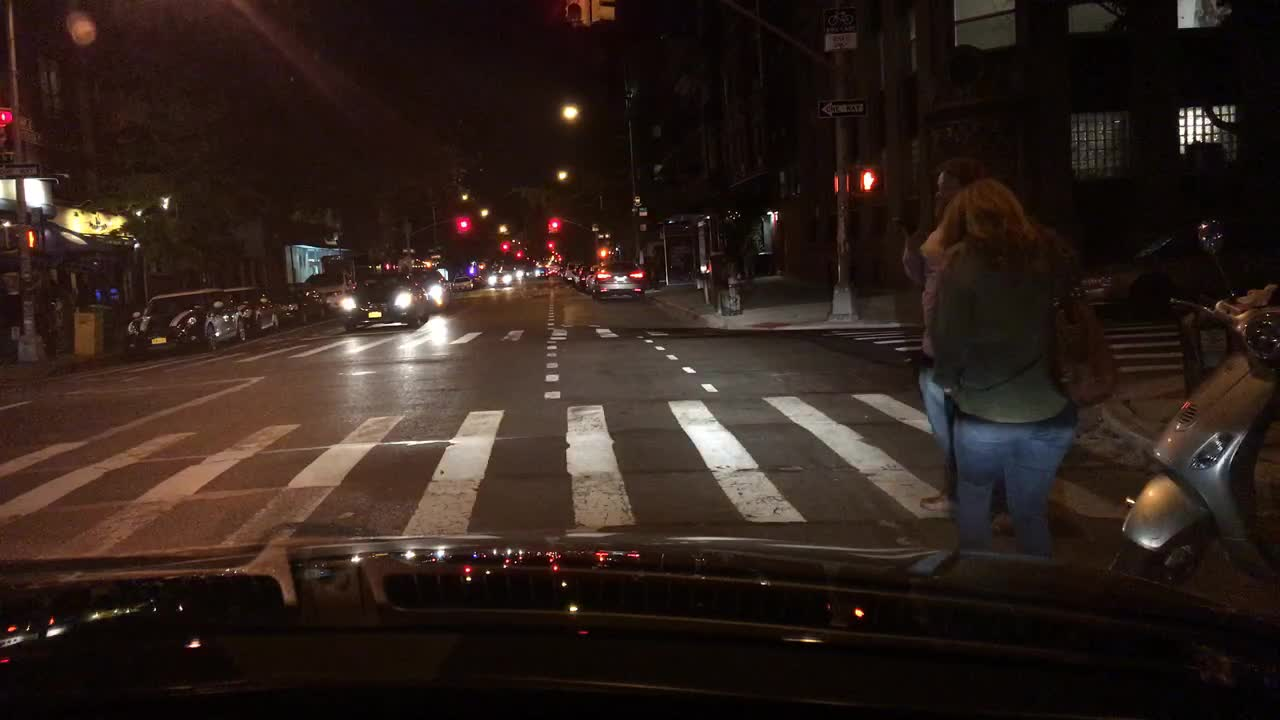car: (1082, 218, 1278, 305), (116, 285, 245, 357), (333, 273, 427, 331), (264, 280, 326, 328), (228, 283, 276, 334), (302, 273, 356, 316), (587, 261, 647, 299), (402, 265, 447, 314), (578, 261, 606, 295), (487, 270, 516, 289), (566, 264, 585, 290), (557, 264, 582, 283), (451, 275, 473, 292), (467, 272, 486, 290), (531, 264, 550, 281)
motor: (1106, 215, 1279, 604)
person: (921, 171, 1102, 552), (897, 159, 1043, 531)
traffic light: (588, 2, 620, 25), (852, 169, 879, 193), (565, 3, 588, 31), (1, 107, 11, 156), (826, 172, 848, 193), (28, 224, 36, 252), (457, 214, 465, 229), (501, 239, 508, 252), (552, 217, 558, 230)
traffic sign: (821, 5, 855, 50), (813, 98, 868, 117), (17, 129, 51, 149), (2, 161, 42, 175), (623, 205, 650, 224), (14, 118, 35, 127), (632, 191, 640, 207)
